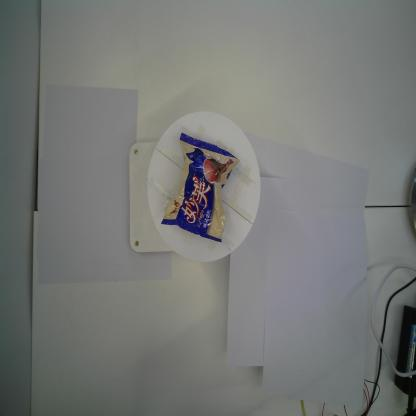Dessert: (160, 132, 241, 243)
